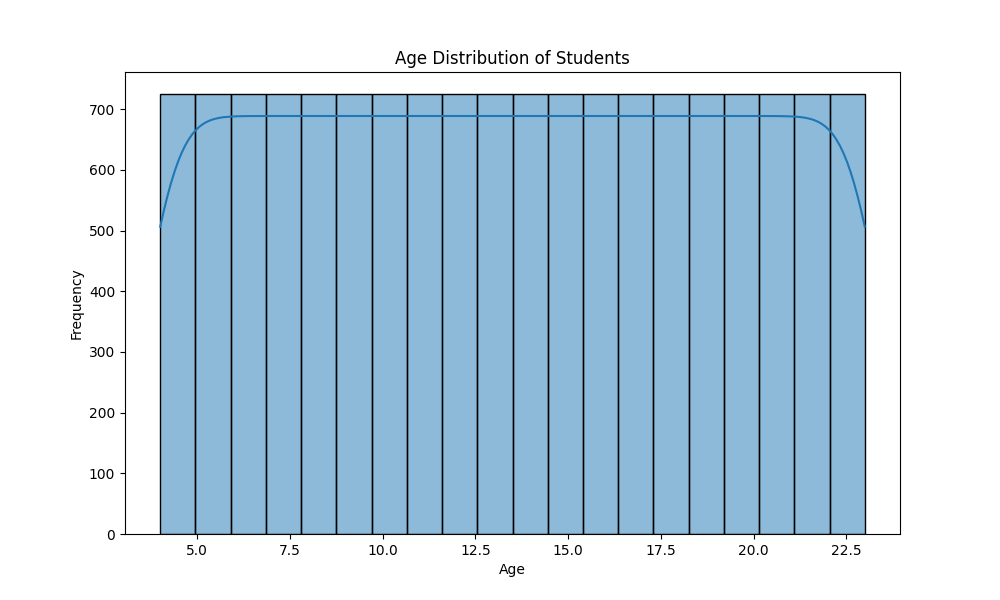

What the dashboard file says about the page in this screenshot:
{"tool":"tableau","page":{"name":"Dashboard 1","canvas":[1000,1000],"units":"permille","ordinal":0},"visuals":[{"type":"worksheet","title":"Sheet 2","mark":"Bar","rows":["count"],"cols":["date","date"],"box":[1.8,480.7,991,499.4]}]}

Visuals, with their boxes on the dashboard's canvas, which has no fixed pixel size, in thousandths of its width and height (x1, y1, x2, y2). These are canvas units, not pixel positions in the 1000x600 screenshot, which may show the page scaled, cropped or inside an application window:
"Sheet 2" worksheet (Bar marks): Rect(2, 481, 993, 980)
